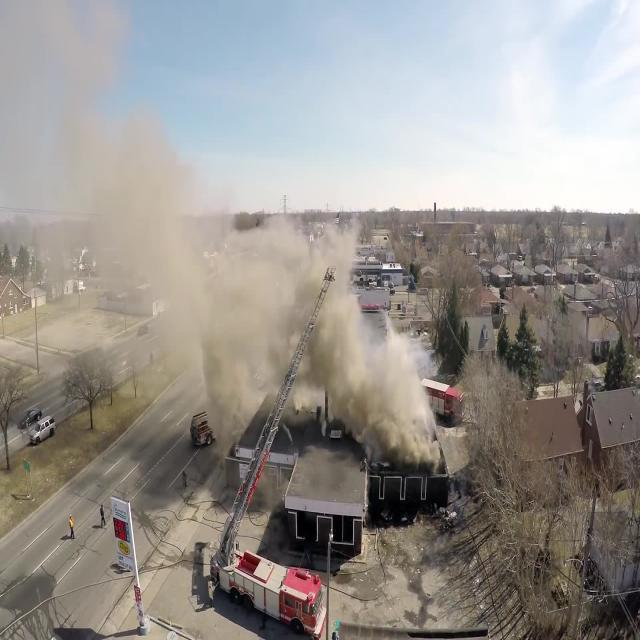Smoke: (98, 150, 288, 398), (324, 303, 426, 447)
